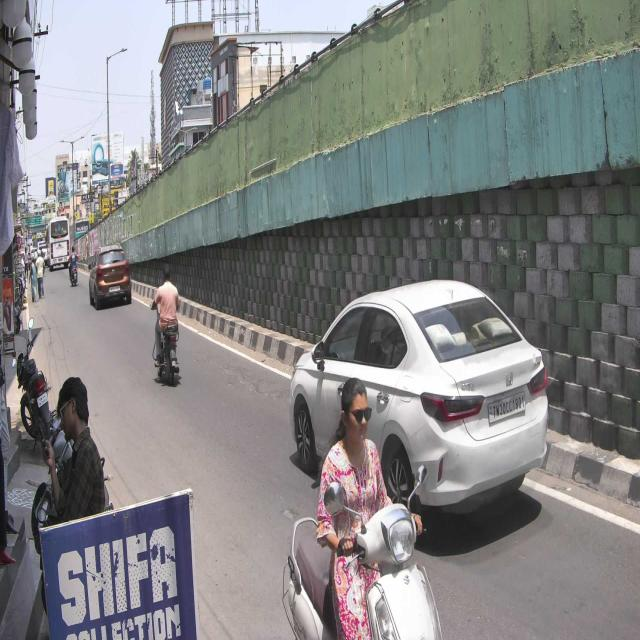single_rider: (282, 375, 442, 640)
